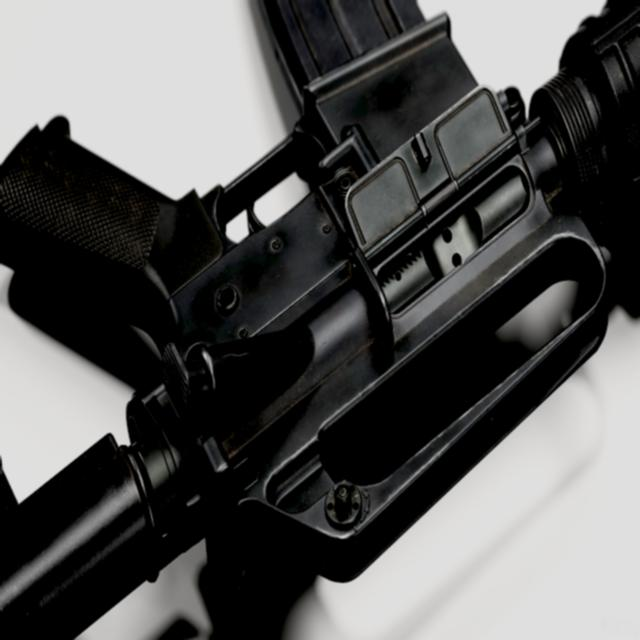m16: (8, 15, 624, 618)
